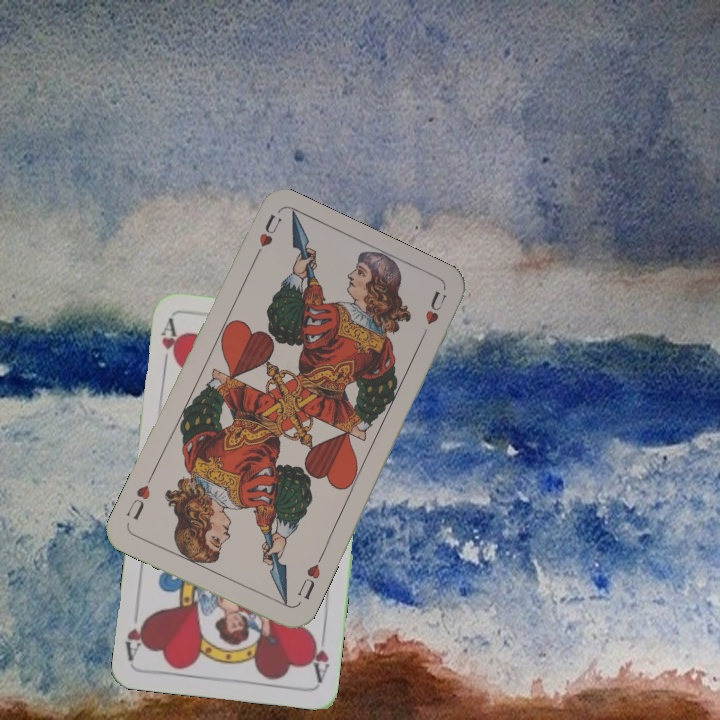HA: (305, 625, 333, 684), (157, 316, 183, 375)
HU: (248, 210, 284, 265), (293, 560, 323, 602)
